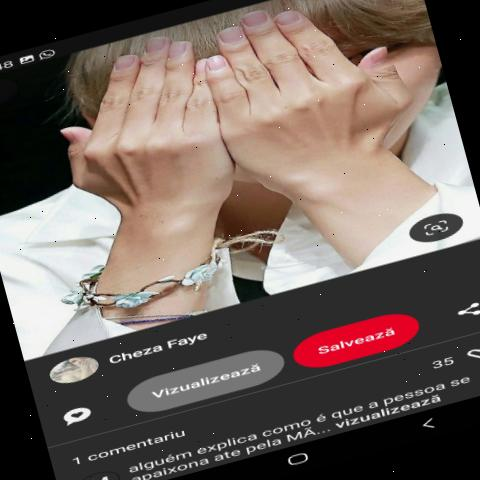hands: (198, 0, 463, 233), (18, 26, 249, 264)
